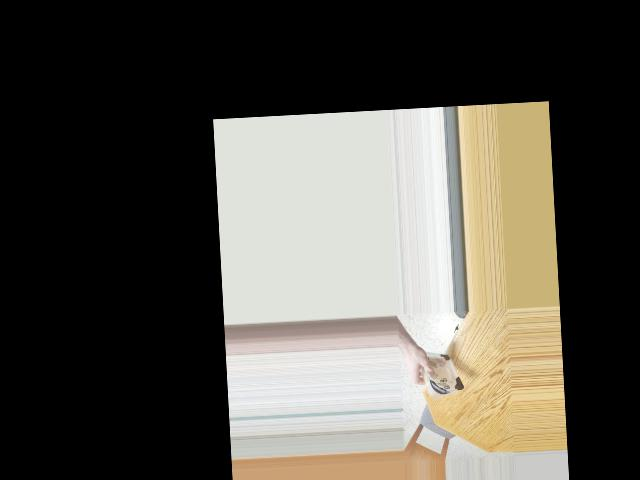cheese: (422, 345, 460, 396)
